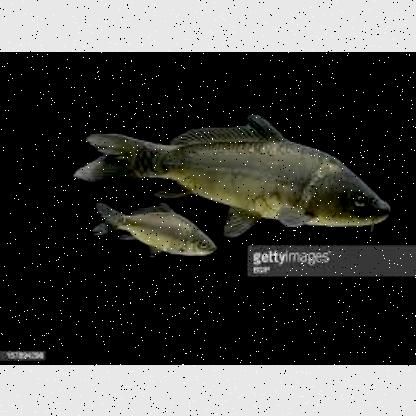ikan-mas: (78, 109, 392, 227), (88, 197, 220, 259)
